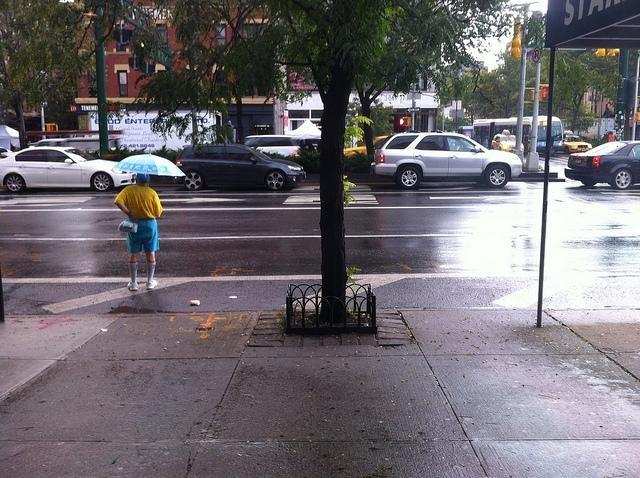bus: (474, 115, 564, 158)
car: (370, 131, 522, 190), (0, 145, 138, 194), (175, 143, 305, 189), (566, 140, 640, 188), (244, 136, 300, 156), (342, 135, 390, 157), (562, 134, 594, 156)
truck: (87, 110, 224, 154)
